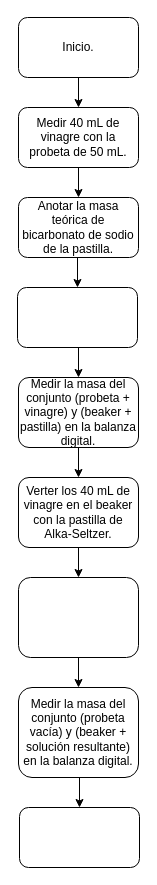
Some shapes in this 157 by 885 pixel diagram are drawn without their labels. The box of each missing label's shape, as (x1, y1, x2, y2) in pixels:
Colocar la pastilla de Alka-Seltzer en un beaker de 250 mL.: (16, 286, 138, 348)
Esperar aproximadamente 10 minutos para que ocurra la reacción química.: (18, 576, 138, 658)
Fin.: (18, 806, 140, 868)
